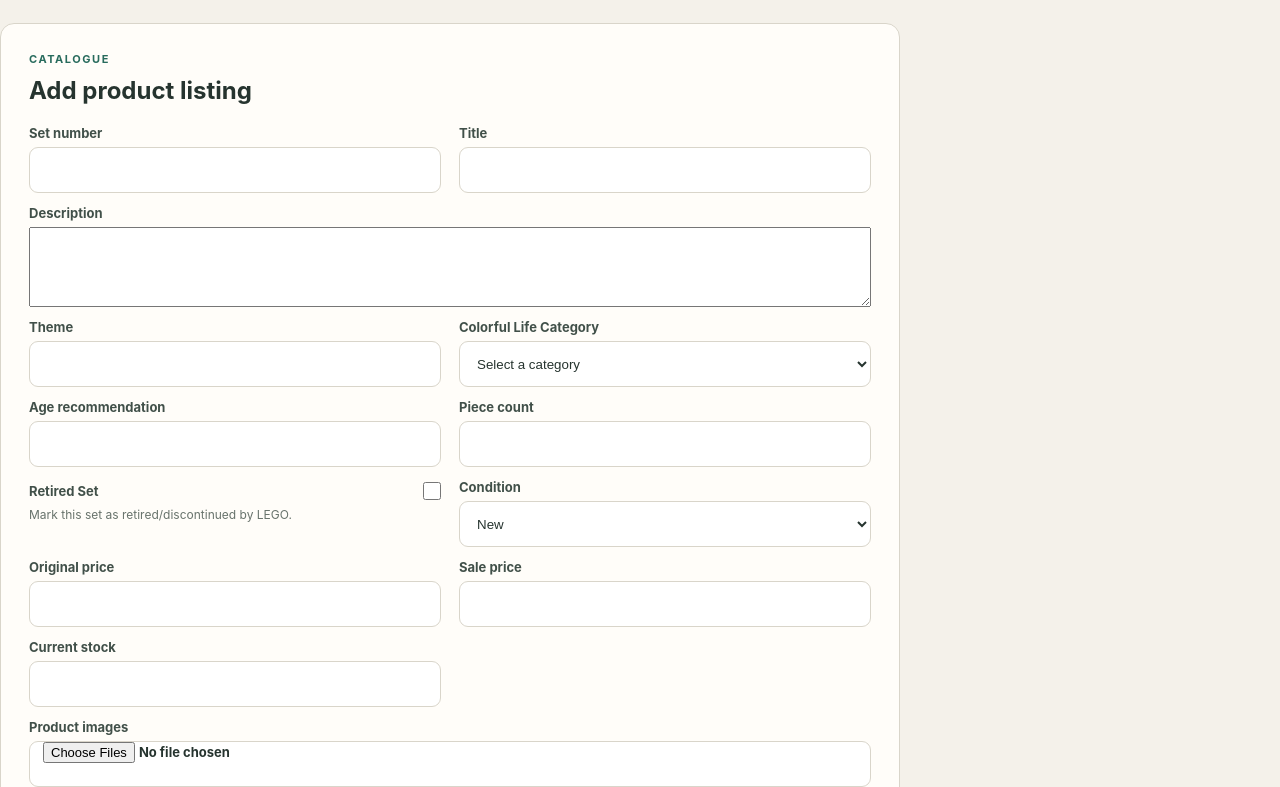
it: AddProduct workflow › creates a product without images
Expected: the checkbox labelled "Retired Set" is not checked, left=423, top=482, right=441, bottom=500
Type "60325" into the field labelled "Set number".
click(235, 170); type("60325")  # box left=29, top=147, right=441, bottom=193
Type "Example Set" into the field labelled "Title".
click(665, 170); type("Example Set")  # box left=459, top=147, right=871, bottom=193
Type "City" into the field labelled "Theme".
click(235, 364); type("City")  # box left=29, top=341, right=441, bottom=387
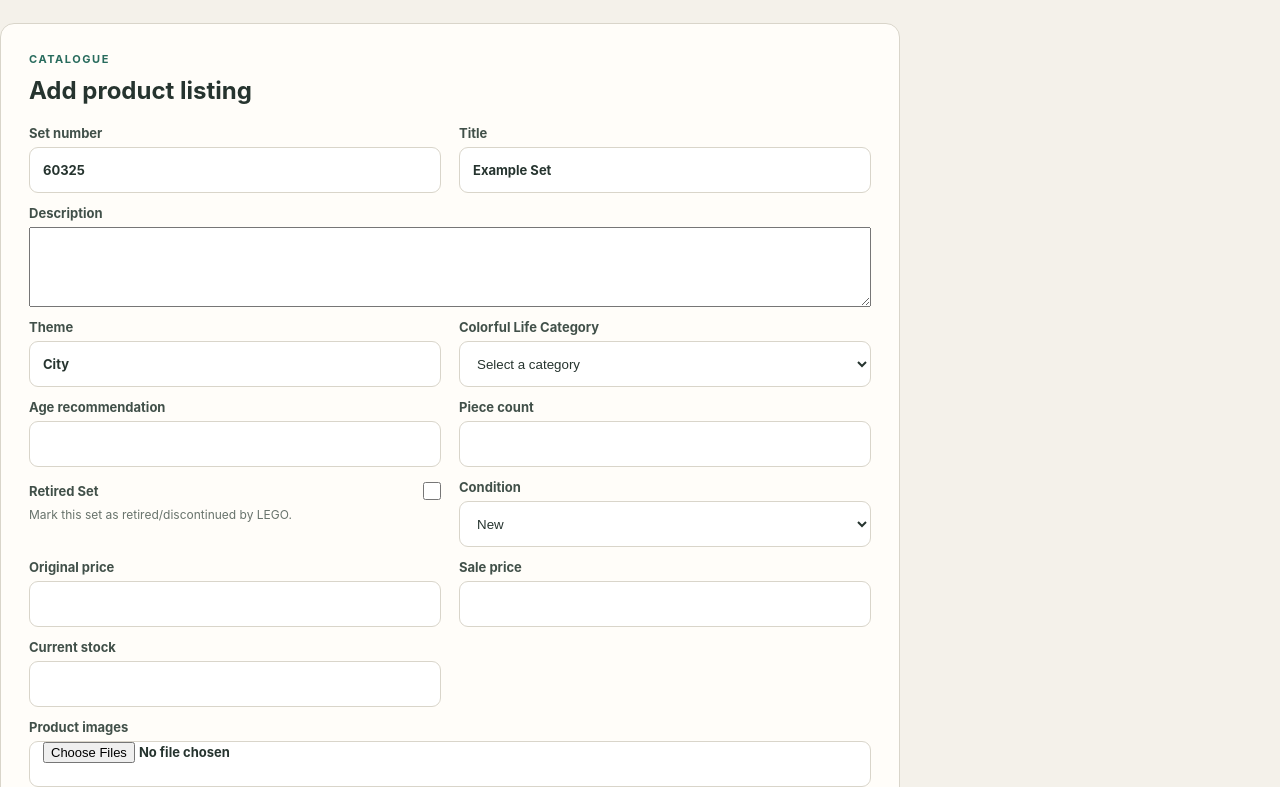
Select "Vehicles" in the dropdown labelled "Colorful Life Category" at (665,364), box left=459, top=341, right=871, bottom=387
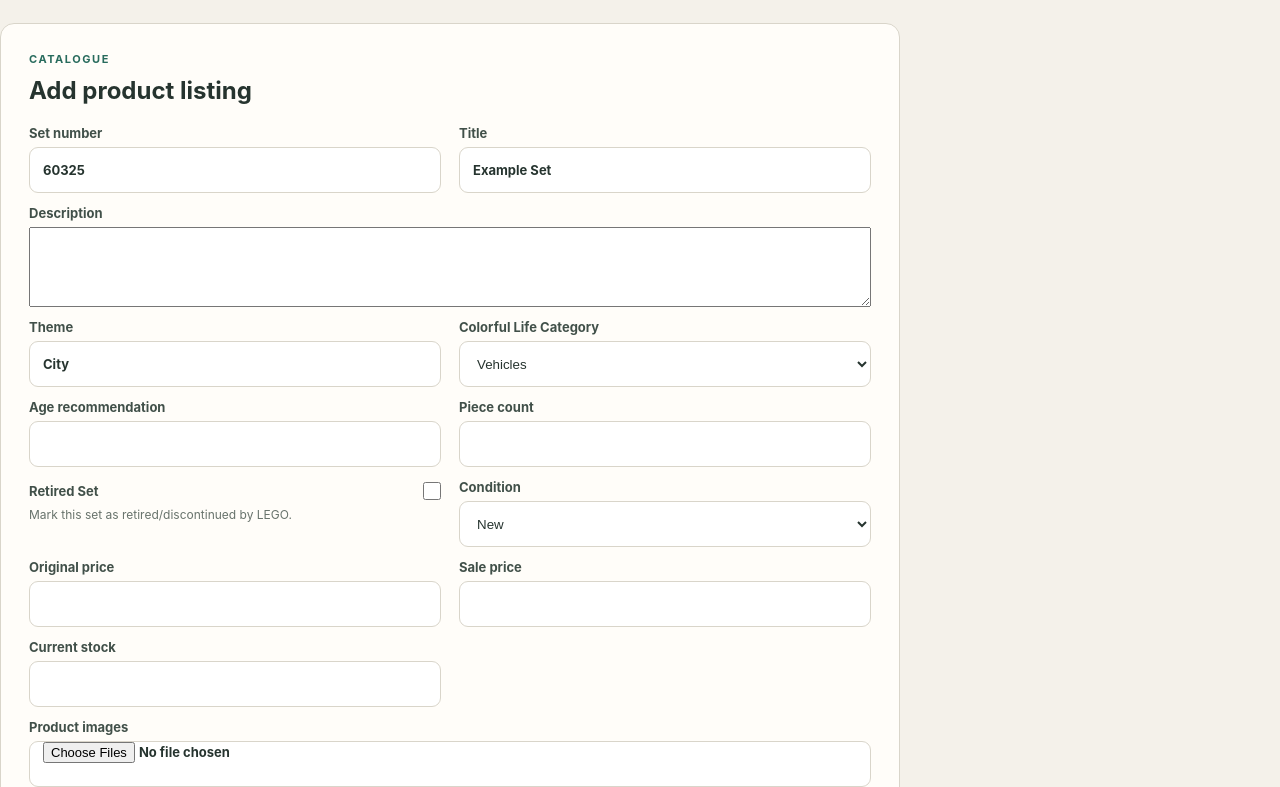
Type "6+" into the field labelled "Age recommendation".
click(235, 444); type("6+")  # box left=29, top=421, right=441, bottom=467
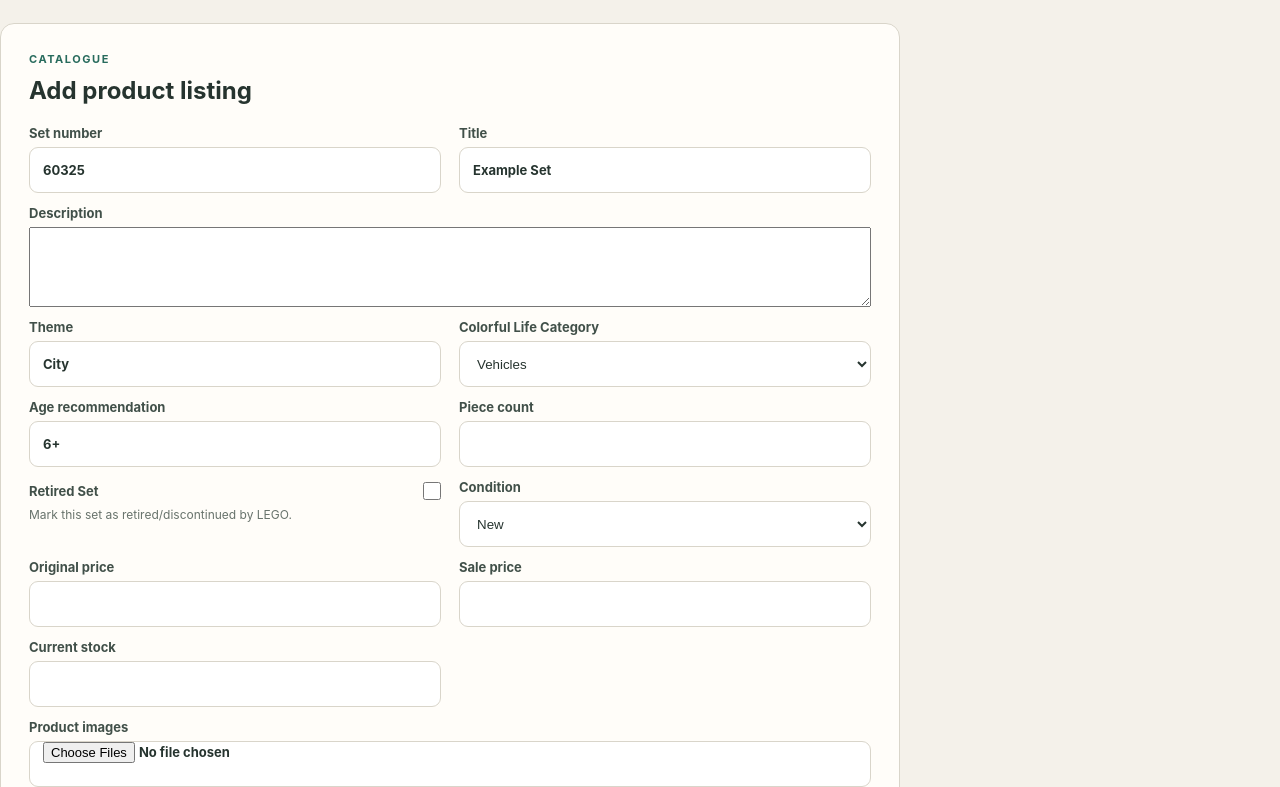
Type "235" into the number field labelled "Piece count".
click(665, 444); type("235")  # box left=459, top=421, right=871, bottom=467
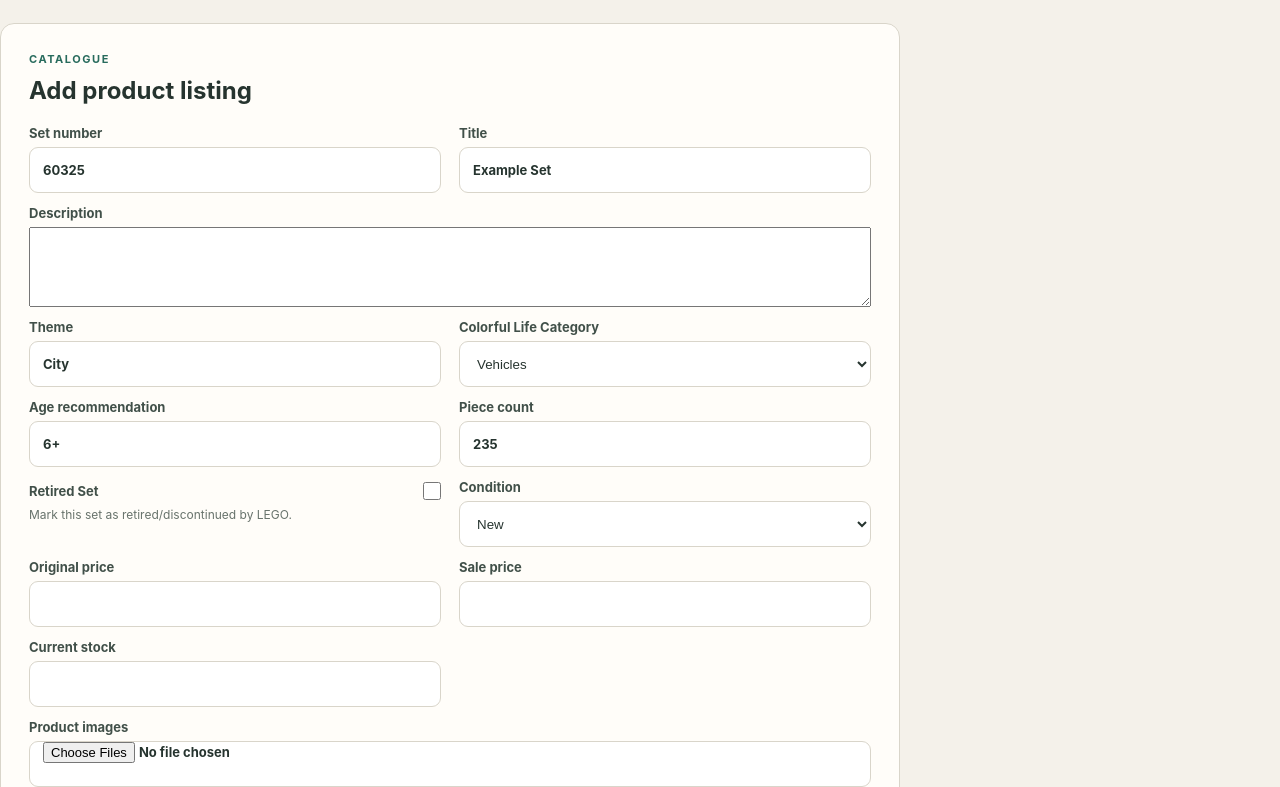
Type "29.99" into the number field labelled "Original price".
click(235, 604); type("29.99")  # box left=29, top=581, right=441, bottom=627
(page scrolled)
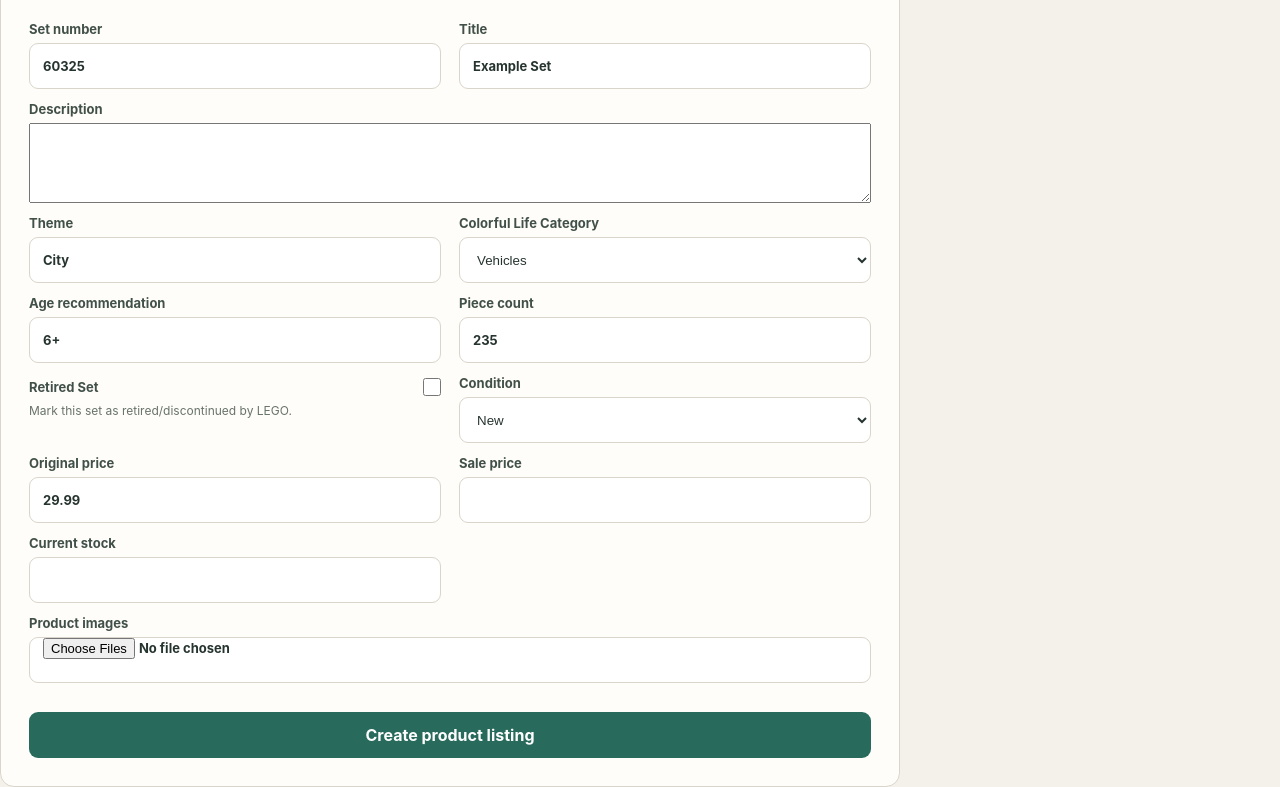
Submit the form named "Create product listing"
(page scrolled)
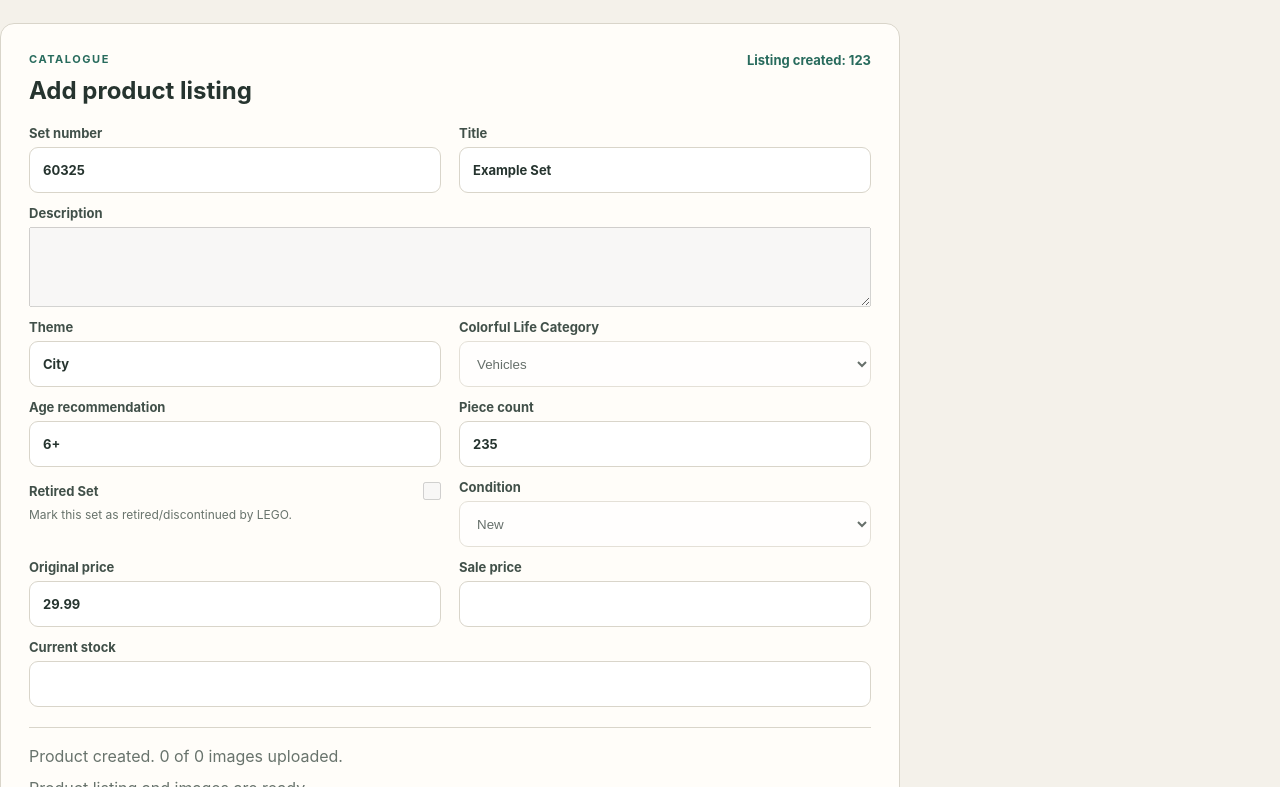
Expected: the text "Listing created: 123" is shown, left=747, top=52, right=871, bottom=68
